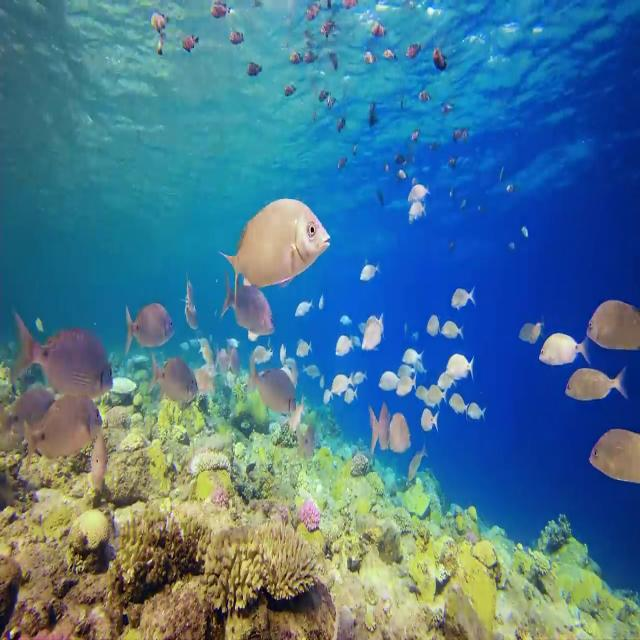fish: (217, 198, 329, 302), (14, 315, 113, 395), (24, 395, 105, 464), (250, 353, 300, 418), (222, 276, 276, 336), (585, 299, 640, 351), (588, 426, 640, 481), (147, 354, 201, 402), (127, 305, 177, 348), (565, 366, 630, 398), (538, 330, 590, 366), (368, 400, 392, 451), (359, 314, 386, 348), (444, 354, 476, 382)
